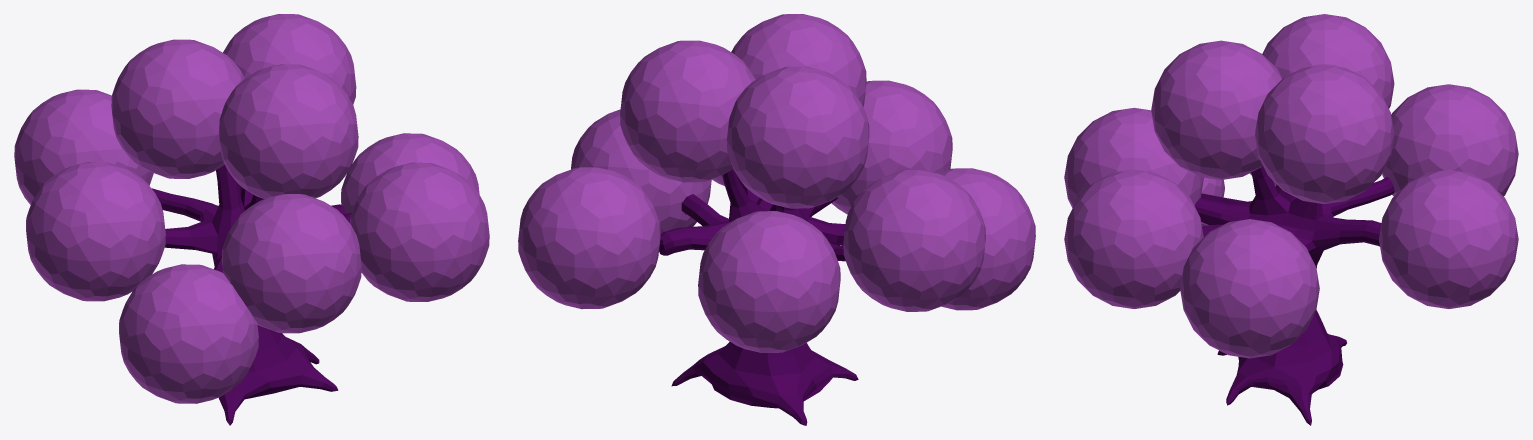
Rendered from arvoreroxaultima.fbx.
The picture shows the model from 3 angles, left to right: view 1: azimuth 30°, elevation 25°; view 2: azimuth 150°, elevation 25°; view 3: azimuth 270°, elevation 25°; orthographic projection. The views are drawn at different scales.
Visible parts, largest first — view 1: Cube; view 2: Cube; view 3: Cube.
Part boxes in pixels (box(x1,y1,x2,y2)): Cube: box(14, 14, 489, 425); Cube: box(518, 14, 1035, 425); Cube: box(1064, 14, 1518, 425).
Size of the model in its own units: 483 by 385 by 463.
